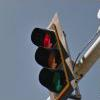Traffic light: (26, 19, 72, 95)
